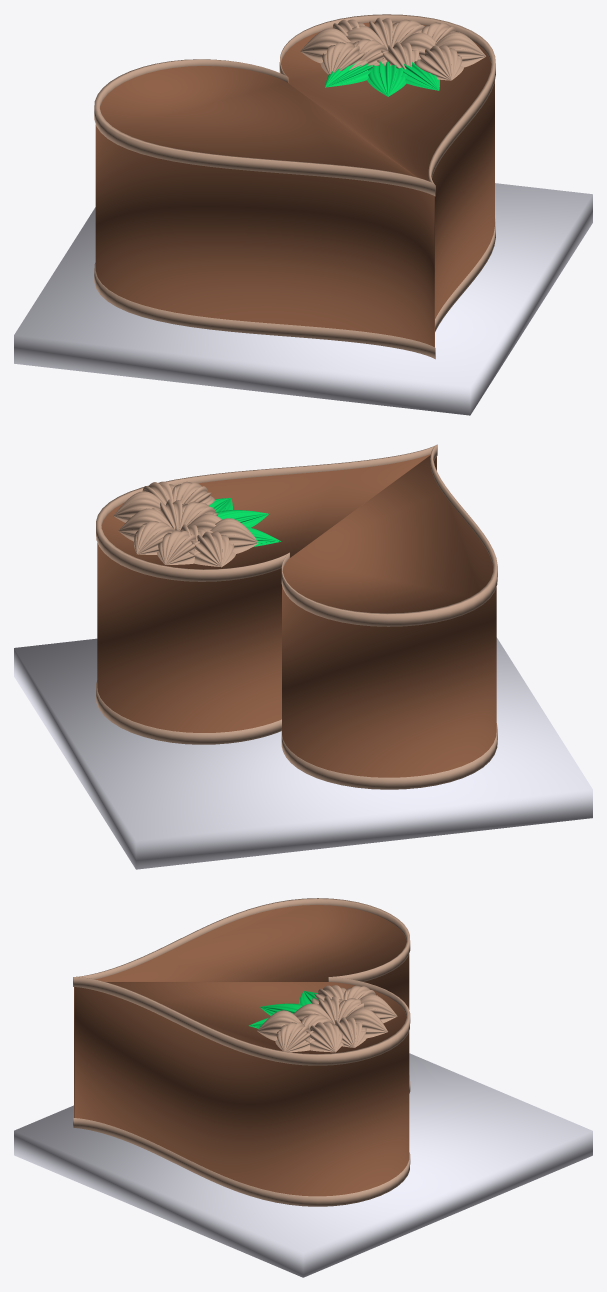
The model's file is heart_chocolate_style2.glb.
3 views of the same model, one above another, from view 1: azimuth 30°, elevation 25°; view 2: azimuth 150°, elevation 25°; view 3: azimuth 270°, elevation 25° (orthographic). The views are drawn at different scales.
Visible parts, largest first — view 1: HeartCake, IcingStand, IcingRing, IcingRing.001, leaf.001, design10, design11, design7, design12, design3, design6, design5; view 2: HeartCake, IcingStand, IcingRing, IcingRing.001, design12, design9, leaf.001, design4, design11, design8, design10, design5; view 3: HeartCake, IcingStand, IcingRing, IcingRing.001, design7, design8, design5, design4, design10, leaf.001, design9.
Part boxes in pixels (box(x1,y1,x2,y2)): HeartCake: box(95, 22, 494, 347); IcingStand: box(14, 183, 592, 415); IcingRing: box(94, 14, 495, 196); IcingRing.001: box(94, 219, 495, 359); leaf.001: box(325, 60, 439, 96); design10: box(414, 45, 463, 80); design11: box(320, 42, 368, 74); design7: box(435, 32, 485, 67); design12: box(300, 28, 350, 63); design3: box(377, 42, 420, 69); design6: box(353, 39, 388, 68); design5: box(391, 19, 424, 47); HeartCake: box(97, 454, 496, 777); IcingStand: box(14, 637, 592, 869); IcingRing: box(96, 444, 497, 626); IcingRing.001: box(96, 680, 497, 789); design12: box(189, 531, 235, 567); design9: box(157, 530, 200, 564); leaf.001: box(209, 498, 281, 546); design4: box(134, 521, 174, 554); design11: box(210, 518, 258, 553); design8: box(113, 491, 165, 522); design10: box(172, 481, 214, 505); design5: box(118, 508, 171, 541); HeartCake: box(74, 905, 409, 1196); IcingStand: box(14, 1053, 592, 1277); IcingRing: box(73, 898, 410, 1065); IcingRing.001: box(73, 1075, 410, 1206); design7: box(275, 1022, 314, 1052); design8: box(305, 1022, 343, 1052); design5: box(335, 1017, 366, 1047); design4: box(345, 1008, 387, 1038); design10: box(257, 1010, 300, 1040); leaf.001: box(248, 991, 318, 1028); design9: box(358, 994, 397, 1023).
Size of the model in its own units: 4.24 by 1.58 by 4.24.
